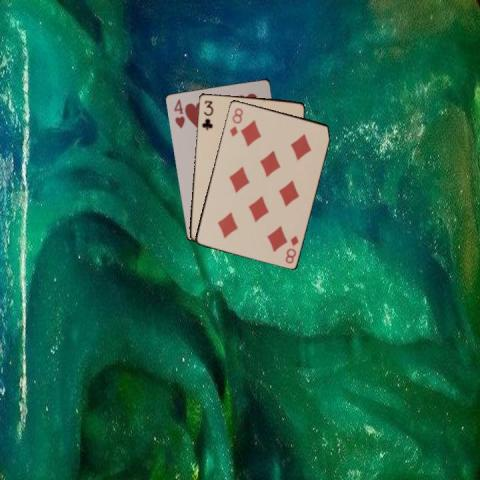3c: (198, 98, 214, 132)
4h: (171, 96, 185, 129)
8d: (227, 105, 244, 138), (282, 232, 299, 264)
